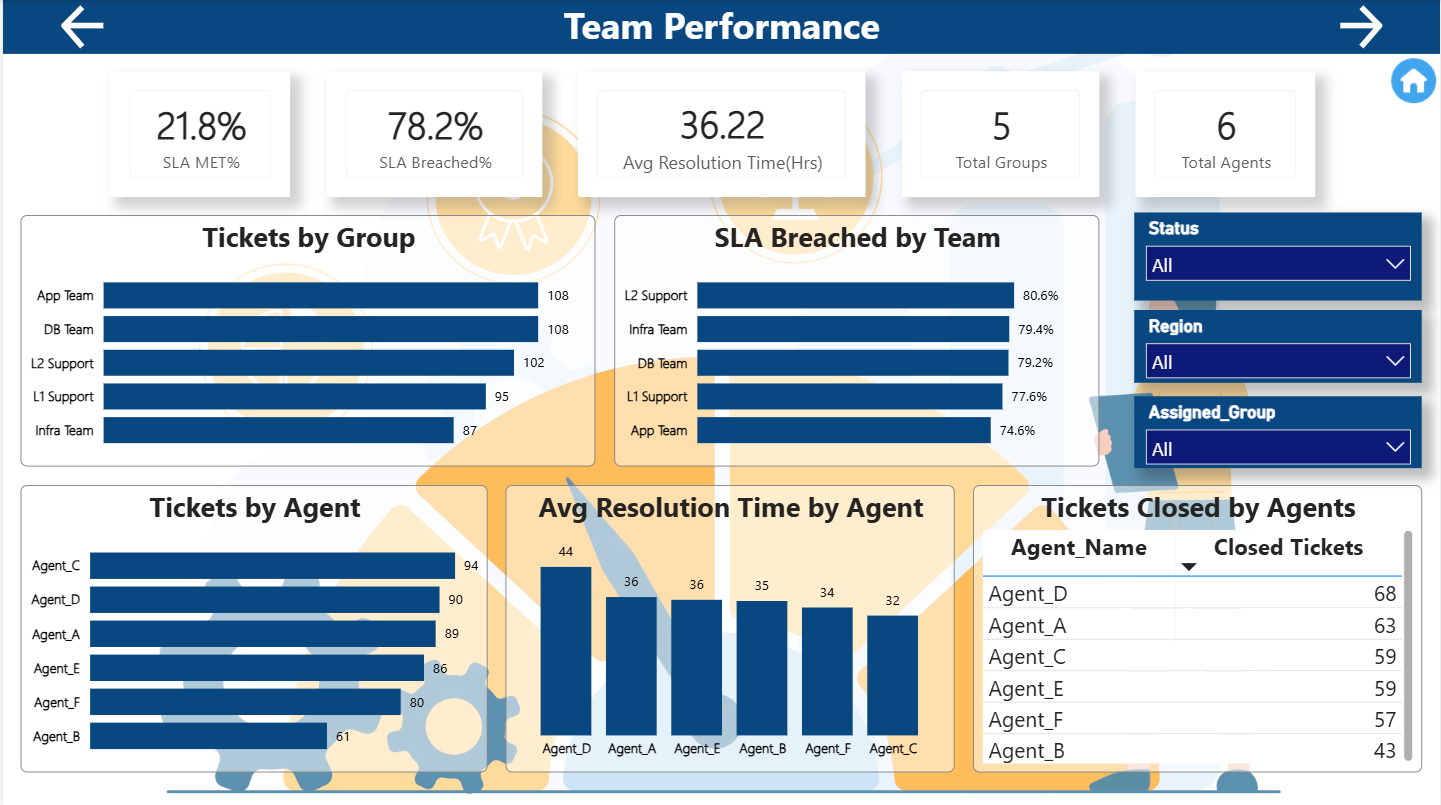

The dashboard page shown, as its layout file describes it:
{"tool":"powerbi","page":{"name":"Team Performance","canvas":[1280,720],"ordinal":2},"visuals":[{"type":"textbox","title":"Team Performance","box":[0,0,1280,48],"z":0},{"type":"actionButton","box":[48,0,96,48],"z":1000},{"type":"actionButton","box":[1184,0,96,48],"z":2000},{"type":"cardVisual","fields":{"Data":["Incident_Data_Set.SLA MET%"]},"box":[96,64,160,112],"z":3000},{"type":"cardVisual","fields":{"Data":["Incident_Data_Set.Avg Resoltion Time(Hrs)"]},"box":[512,64,256,112],"z":4000},{"type":"cardVisual","fields":{"Data":["Incident_Data_Set.Total Groups"]},"box":[800,64,176,112],"z":5000},{"type":"cardVisual","fields":{"Data":["Incident_Data_Set.Total Agents"]},"box":[1008,64,160,112],"z":6000},{"type":"clusteredBarChart","title":"Tickets by Group","fields":{"Category":["Incident_Data_Set.Assigned_Group"],"Y":["Incident_Data_Set.Total Tickets"]},"box":[16,192,512,224],"z":7000},{"type":"clusteredBarChart","title":"Tickets by Agent","fields":{"Category":["Incident_Data_Set.Agent_Name"],"Y":["Incident_Data_Set.Total Tickets"]},"box":[16,432,416,256],"z":8000},{"type":"clusteredColumnChart","title":"Avg Resolution Time by Agent","fields":{"Category":["Incident_Data_Set.Agent_Name"],"Y":["Incident_Data_Set.Avg Resolution Time(Hrs)"]},"box":[448,432,400,256],"z":9000},{"type":"clusteredBarChart","title":"SLA Breached by Team","fields":{"Category":["Incident_Data_Set.Assigned_Group"],"Y":["Incident_Data_Set.SLA Breached%"]},"box":[544,192,432,224],"z":10000},{"type":"tableEx","title":"Tickets Closed by Agents","fields":{"Values":["Incident_Data_Set.Agent_Name","Incident_Data_Set.Closed Tickets"]},"box":[864,432,400,256],"z":11000},{"type":"slicer","fields":{"Values":["Incident_Data_Set.Status"]},"box":[1007.5,188.8,256.2,78.8],"z":13000},{"type":"slicer","fields":{"Values":["Incident_Data_Set.Region"]},"box":[1007.5,276.2,256.2,65],"z":14000},{"type":"slicer","fields":{"Values":["Incident_Data_Set.Assigned_Group"]},"box":[1007.5,352.5,256.2,63.8],"z":15000},{"type":"cardVisual","fields":{"Data":["Incident_Data_Set.SLA Breached%"]},"box":[288,64,192,112],"z":16000},{"type":"actionButton","box":[1232,48,48,48],"z":17000}]}

Visuals, with their boxes in screenshot pixels (x1, y1, x2, y2), scaled from the page's 1280x720 canvas onto the 1441x805 screenshot:
"Team Performance" textbox: crop(0, 0, 1440, 54)
actionButton: crop(54, 0, 162, 54)
actionButton: crop(1333, 0, 1440, 54)
cardVisual - Incident_Data_Set.SLA MET%: crop(108, 72, 288, 197)
cardVisual - Incident_Data_Set.Avg Resoltion Time(Hrs): crop(576, 72, 865, 197)
cardVisual - Incident_Data_Set.Total Groups: crop(901, 72, 1099, 197)
cardVisual - Incident_Data_Set.Total Agents: crop(1135, 72, 1315, 197)
"Tickets by Group" clusteredBarChart: crop(18, 215, 594, 465)
"Tickets by Agent" clusteredBarChart: crop(18, 483, 486, 769)
"Avg Resolution Time by Agent" clusteredColumnChart: crop(504, 483, 955, 769)
"SLA Breached by Team" clusteredBarChart: crop(612, 215, 1099, 465)
"Tickets Closed by Agents" tableEx: crop(973, 483, 1423, 769)
slicer - Incident_Data_Set.Status: crop(1134, 211, 1423, 299)
slicer - Incident_Data_Set.Region: crop(1134, 309, 1423, 381)
slicer - Incident_Data_Set.Assigned_Group: crop(1134, 394, 1423, 465)
cardVisual - Incident_Data_Set.SLA Breached%: crop(324, 72, 540, 197)
actionButton: crop(1387, 54, 1440, 107)
